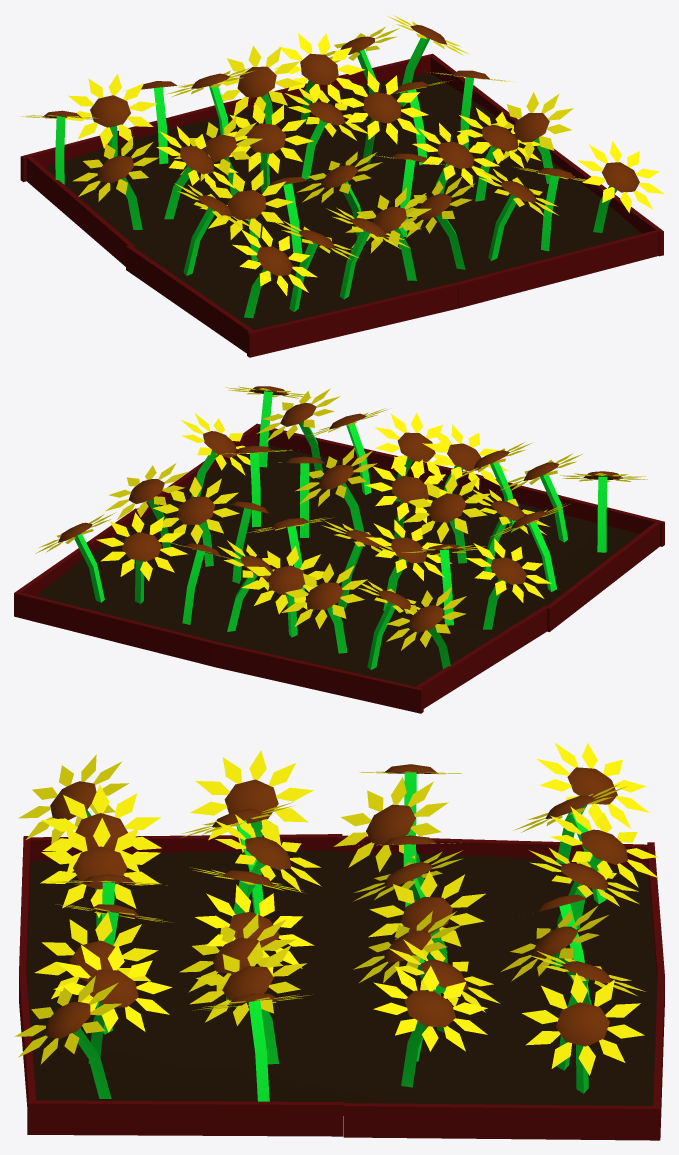
File: flowerbed.fbx
3 views of the same model, one above another, from view 1: azimuth 30°, elevation 25°; view 2: azimuth 150°, elevation 25°; view 3: azimuth 270°, elevation 25° (orthographic). The views are drawn at different scales.
Visible parts, largest first — view 1: Box001; view 2: Box001; view 3: Box001.
Part boxes in pixels (<box>): Box001: <box>20,15,664,357</box>; Box001: <box>14,386,664,713</box>; Box001: <box>14,743,664,1140</box>.
Size of the model in its own units: 223 by 46.94 by 210.
